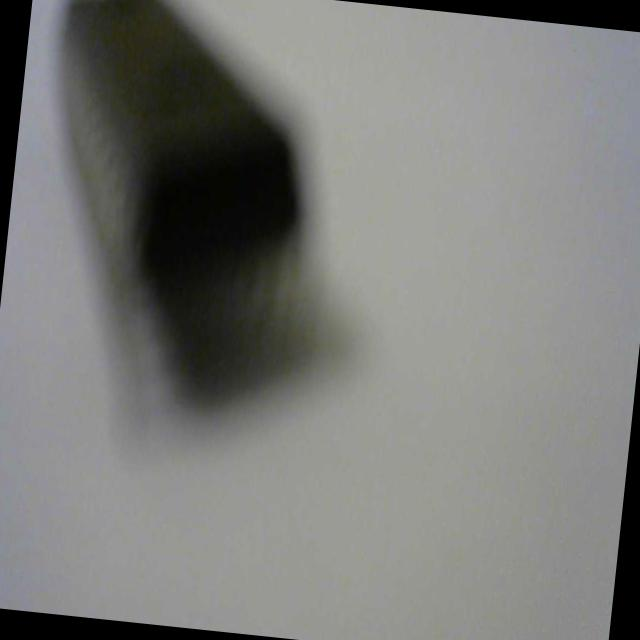atmega: (12, 0, 377, 452)
